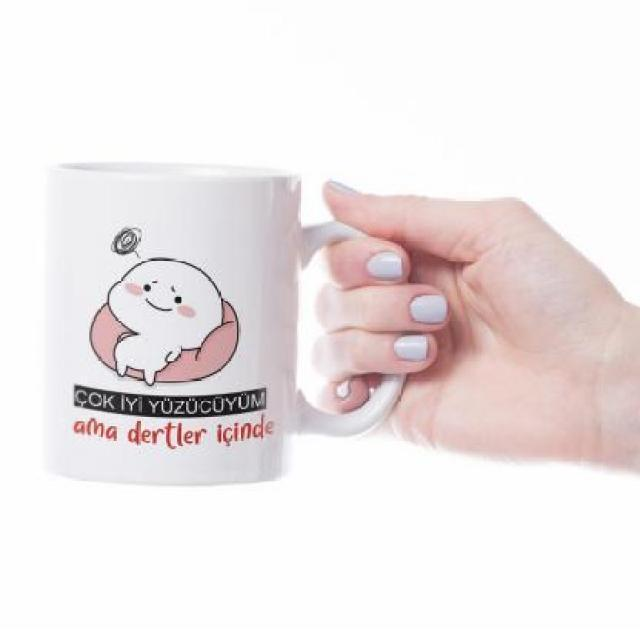taza: (116, 191, 462, 484)
